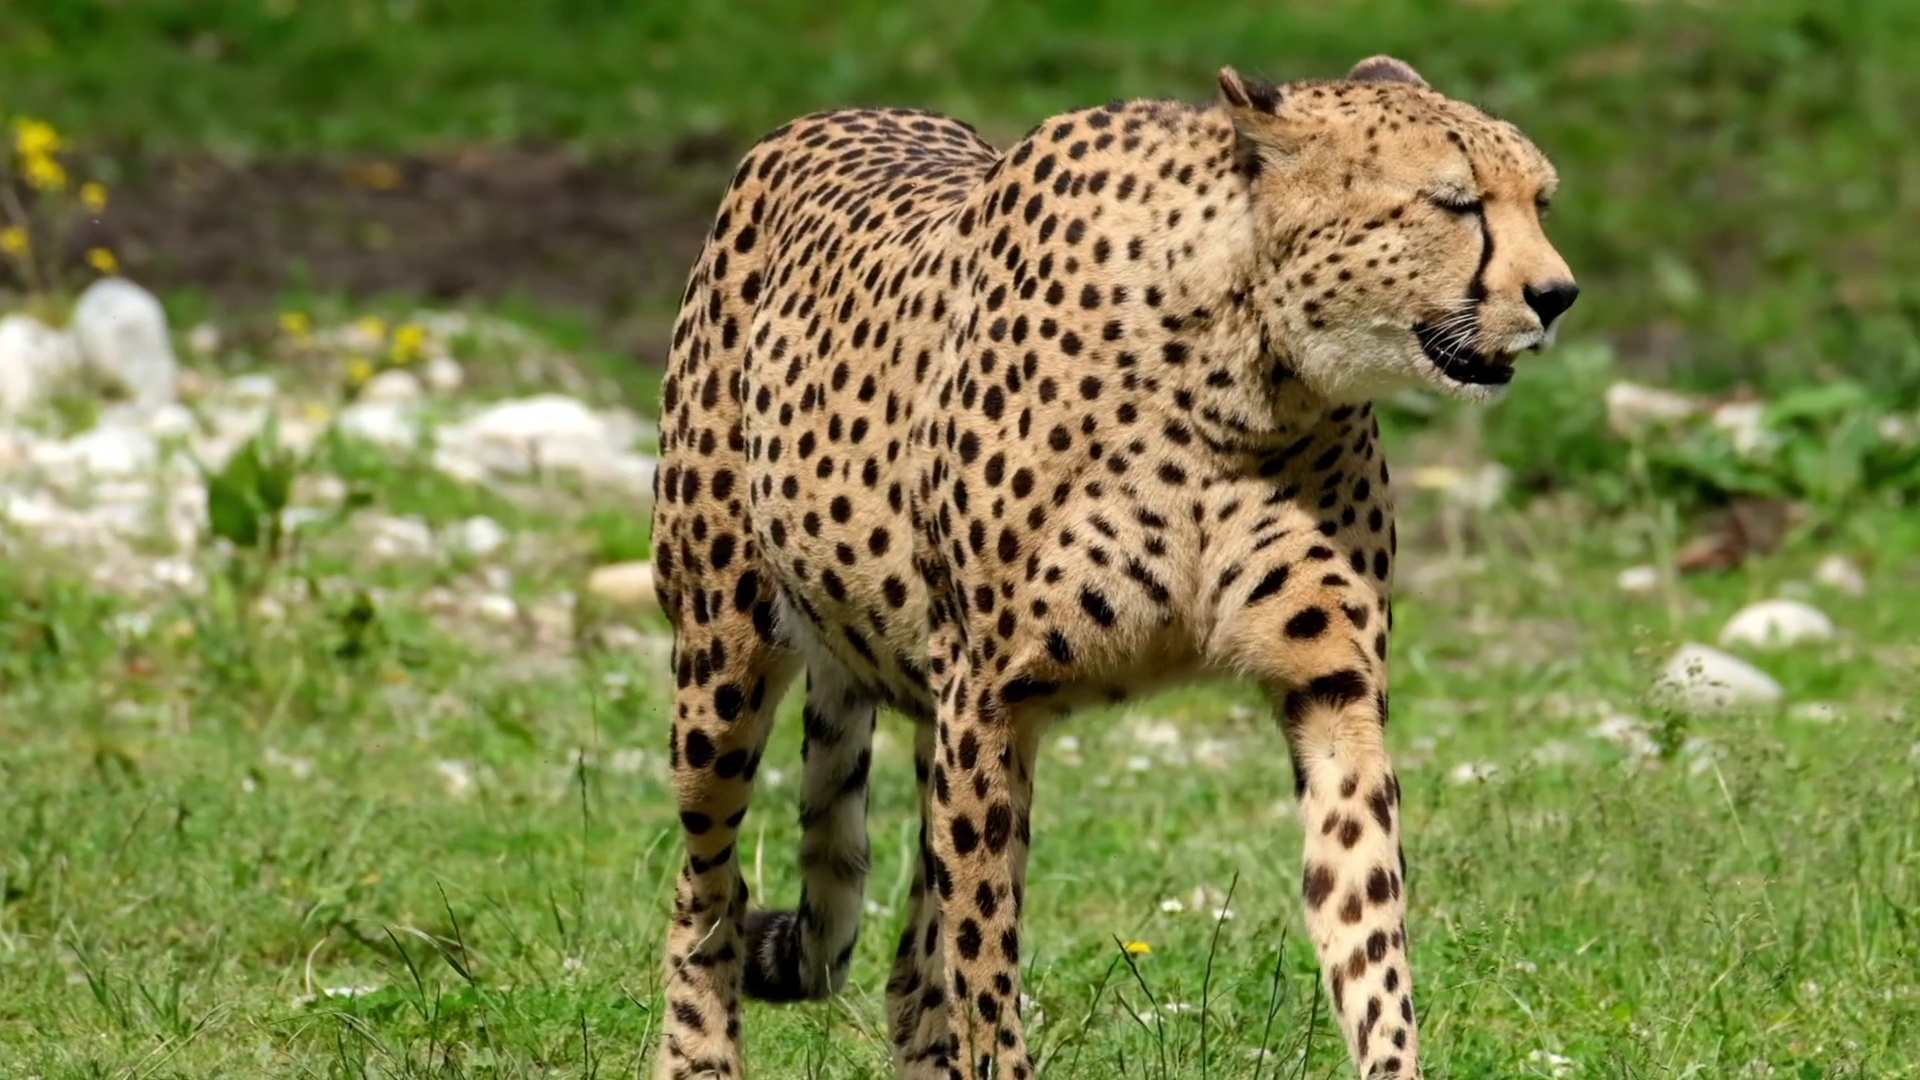Cheetah: (641, 49, 1581, 1080)
